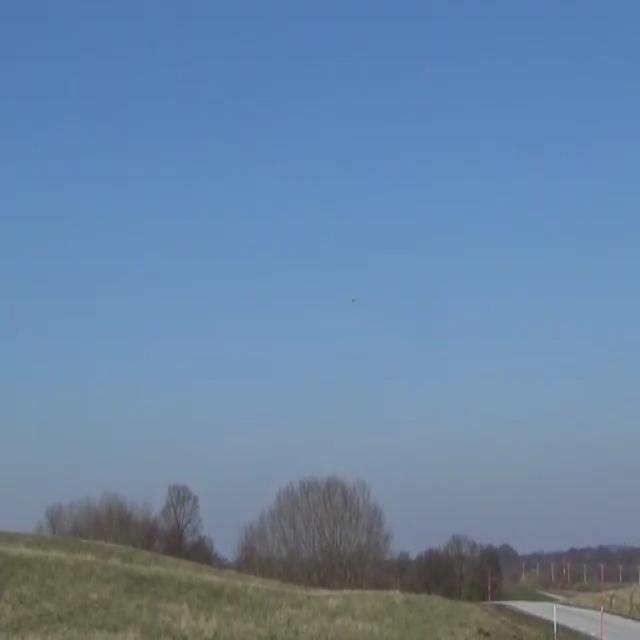AirPlane: (341, 284, 369, 311)
